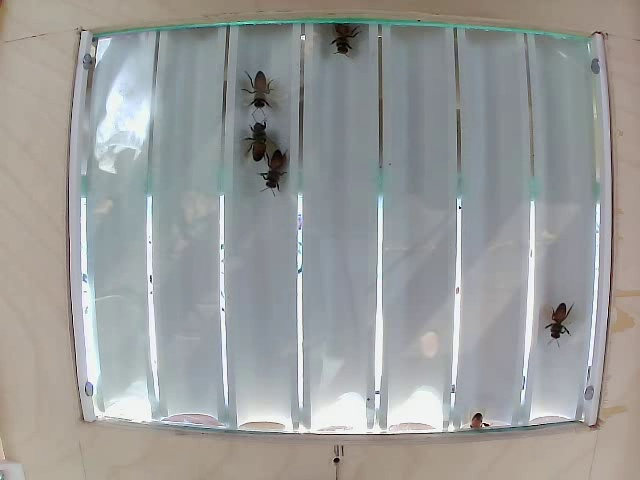bee: (245, 61, 275, 112), (325, 13, 359, 57), (543, 294, 575, 340), (244, 117, 275, 164), (267, 144, 291, 198)
